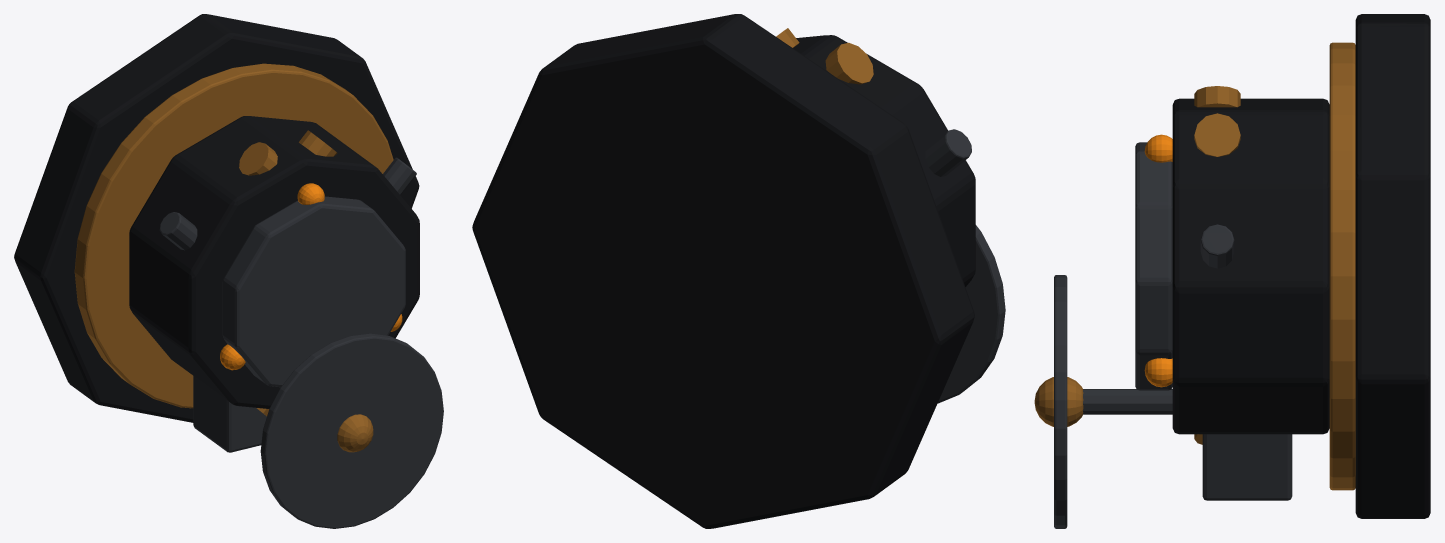
The picture shows the model from 3 angles, left to right: view 1: azimuth 30°, elevation 25°; view 2: azimuth 150°, elevation 25°; view 3: azimuth 270°, elevation 25°; orthographic projection. The views are drawn at different scales.
Parts seen in each view (by area): view 1: TURRET_body, TURRET_base, TURRET_ring, TURRET_dish, TURRET_cap, TURRET_counter, TURRET_hub, TURRET_muzzle_3, TURRET_barrel_3, TURRET_barrel_0, TURRET_muzzle_0, TURRET_barrel_1; view 2: TURRET_base, TURRET_body, TURRET_dish, TURRET_muzzle_3, TURRET_barrel_3, TURRET_barrel_1; view 3: TURRET_body, TURRET_base, TURRET_ring, TURRET_cap, TURRET_counter, TURRET_dish, TURRET_mast, TURRET_muzzle_0, TURRET_hub, TURRET_barrel_0, TURRET_muzzle_3, TURRET_lamp_1 (+1 smaller).
Boxes of the visible parts, left/top/right/bottom form: TURRET_body: left=129, top=116, right=419, bottom=408; TURRET_base: left=14, top=14, right=419, bottom=422; TURRET_ring: left=74, top=63, right=393, bottom=408; TURRET_dish: left=260, top=333, right=443, bottom=528; TURRET_cap: left=222, top=196, right=405, bottom=387; TURRET_counter: left=193, top=376, right=266, bottom=452; TURRET_hub: left=337, top=414, right=373, bottom=452; TURRET_muzzle_3: left=239, top=142, right=277, bottom=175; TURRET_barrel_3: left=160, top=212, right=197, bottom=249; TURRET_barrel_0: left=383, top=157, right=416, bottom=195; TURRET_muzzle_0: left=299, top=130, right=337, bottom=156; TURRET_barrel_1: left=159, top=212, right=197, bottom=250; TURRET_base: left=472, top=14, right=974, bottom=528; TURRET_body: left=793, top=35, right=975, bottom=286; TURRET_dish: left=937, top=225, right=1005, bottom=403; TURRET_muzzle_3: left=825, top=42, right=873, bottom=84; TURRET_barrel_3: left=925, top=130, right=971, bottom=176; TURRET_barrel_1: left=925, top=129, right=971, bottom=176; TURRET_body: left=1172, top=98, right=1329, bottom=434; TURRET_base: left=1355, top=14, right=1430, bottom=518; TURRET_ring: left=1329, top=42, right=1355, bottom=490; TURRET_cap: left=1135, top=142, right=1172, bottom=390; TURRET_counter: left=1202, top=434, right=1292, bottom=500; TURRET_dish: left=1054, top=275, right=1067, bottom=528; TURRET_mast: left=1083, top=389, right=1172, bottom=414; TURRET_muzzle_0: left=1194, top=113, right=1240, bottom=156; TURRET_hub: left=1034, top=377, right=1083, bottom=426; TURRET_barrel_0: left=1200, top=224, right=1234, bottom=268; TURRET_muzzle_3: left=1194, top=86, right=1240, bottom=107; TURRET_lamp_1: left=1144, top=358, right=1172, bottom=387.
Size of the model in its own units: 1.43 by 1.46 by 1.06.
